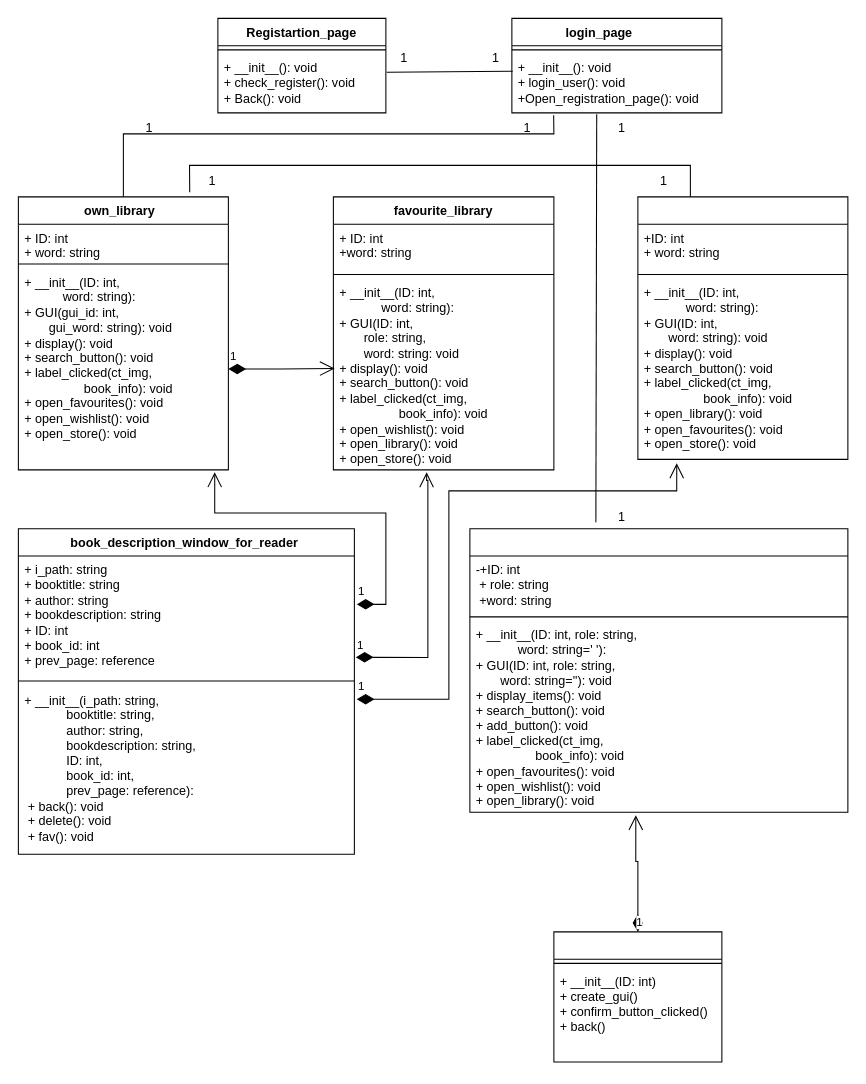
Image size: 866x1084. Some labels were removed from this diagram. Each missing label, with the box of its shape:
AddWindow: (553, 931, 722, 1062)
store_library: (469, 528, 848, 812)
wishlist_library: (637, 196, 848, 459)
